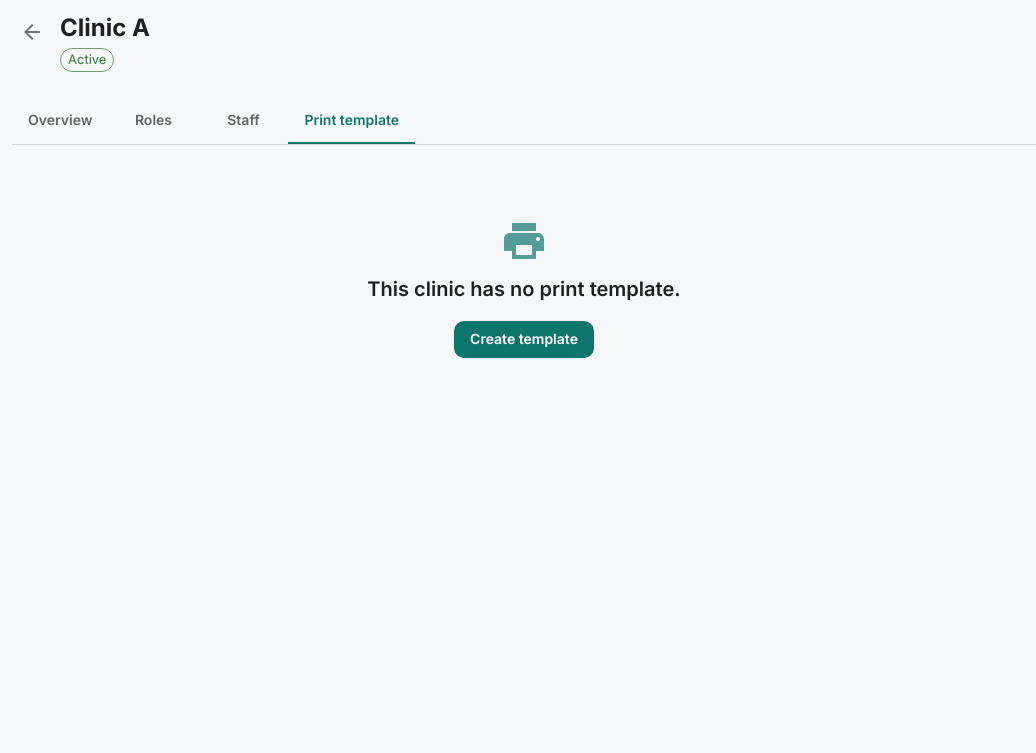
Test: print template: the side panel @area:admin › manual input, the six functions and static text can be added; internal data and the JS expression are dimmed, not addable, explained @TPL-042 @smoke
Click the button "Create template".
click(524, 339)  # box left=454, top=321, right=594, bottom=358
(page scrolled)
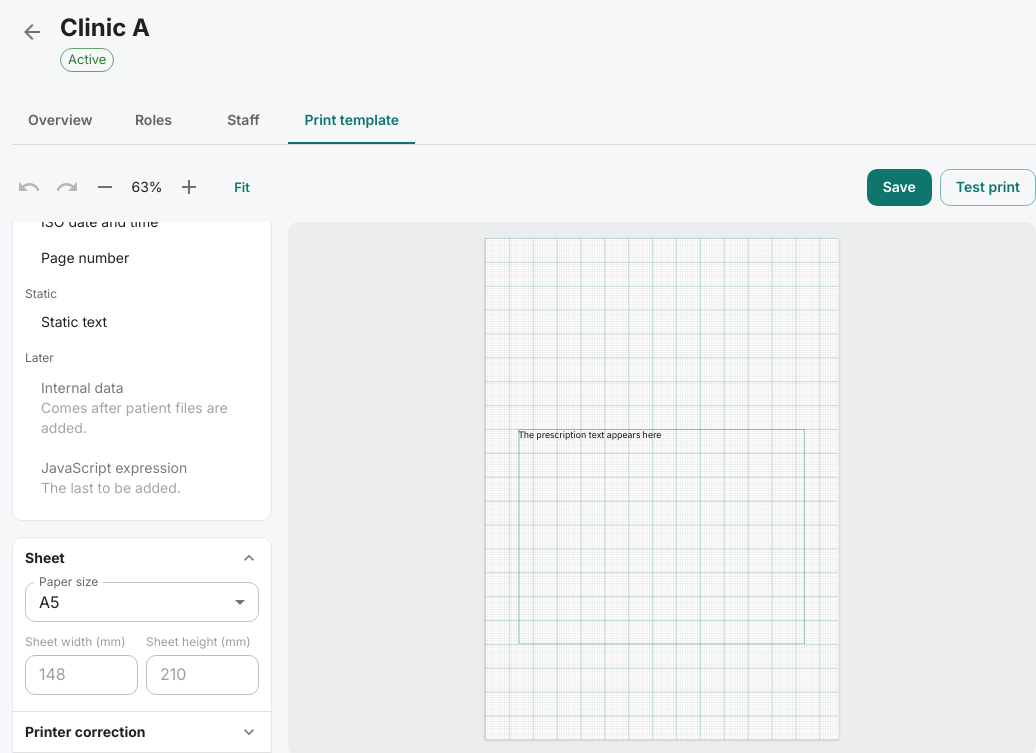
Expected: the text "Comes after patient files are added." is shown, left=41, top=398, right=243, bottom=438
Expected: the text "The last to be added." is shown, left=41, top=479, right=181, bottom=496
